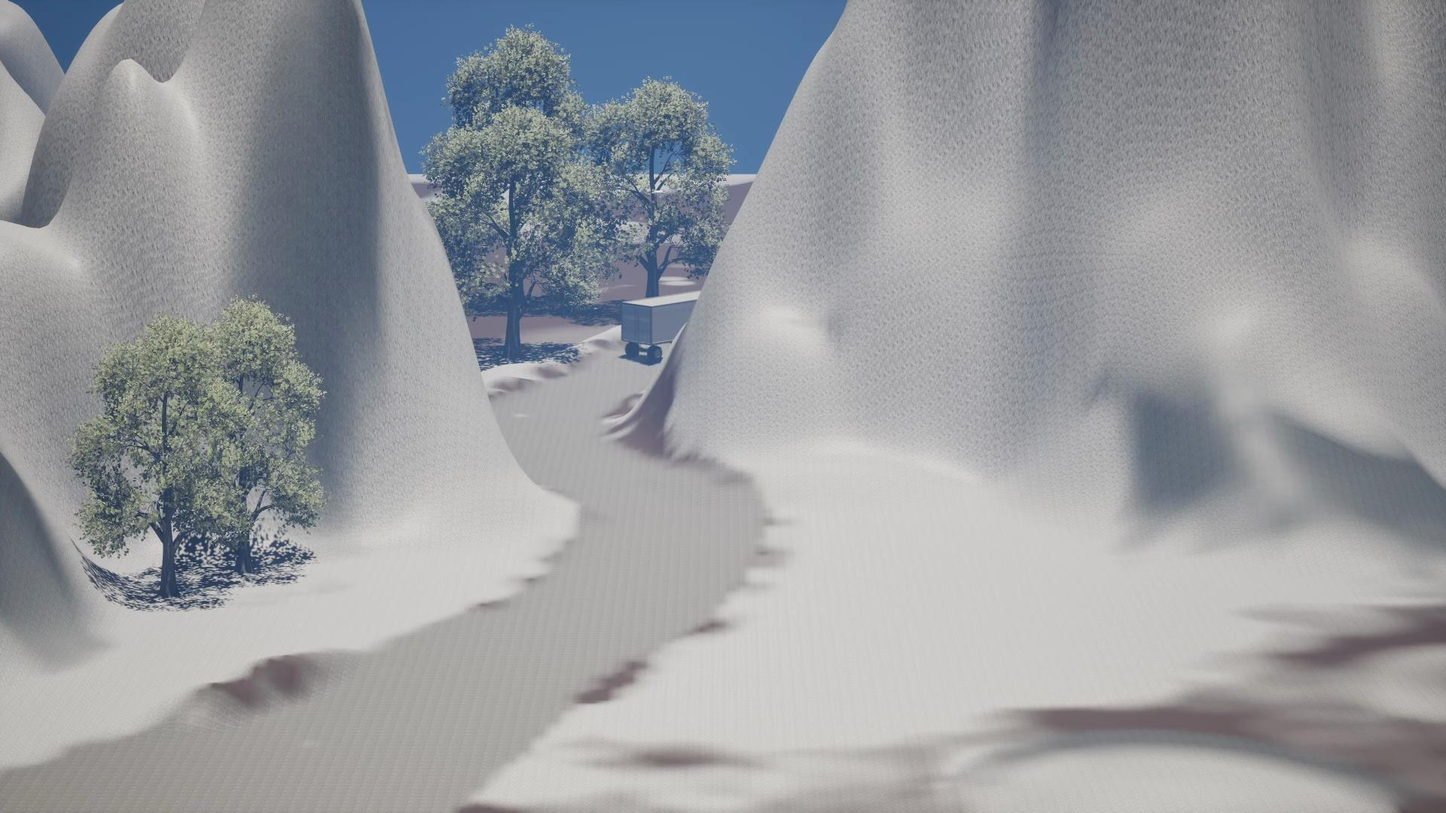truck: (623, 295, 679, 344)
